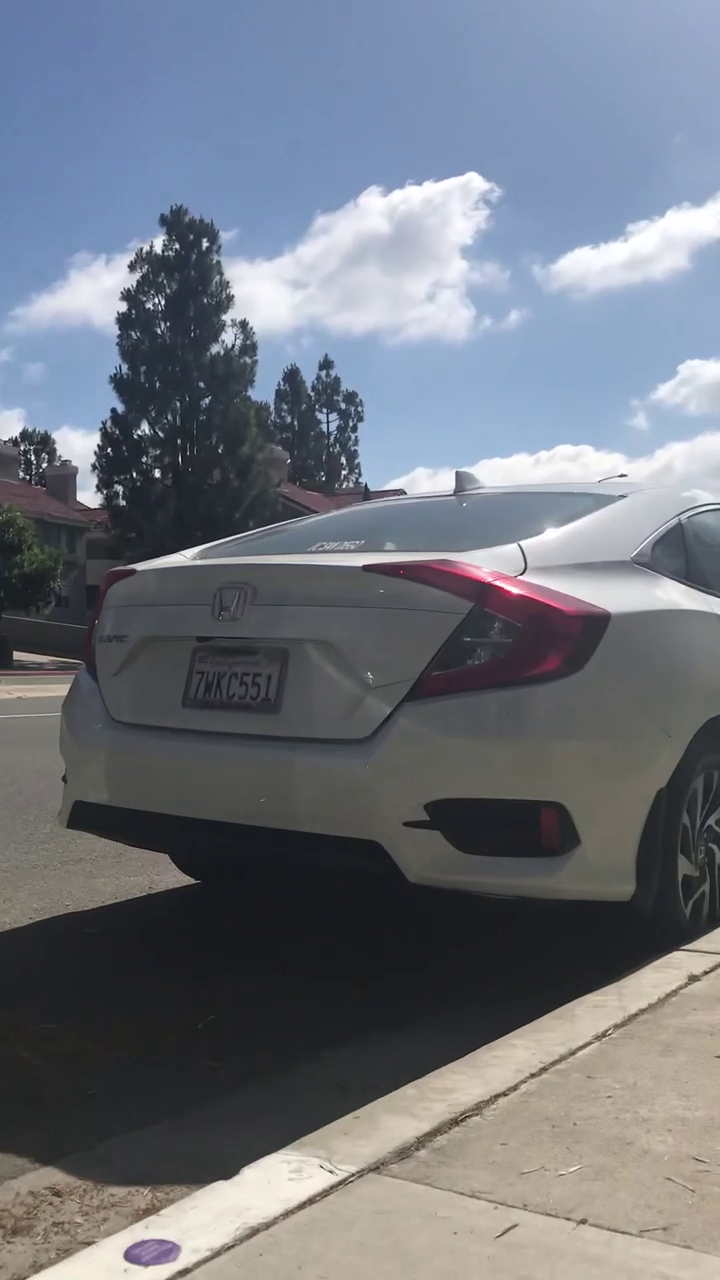car: (45, 488, 720, 973)
